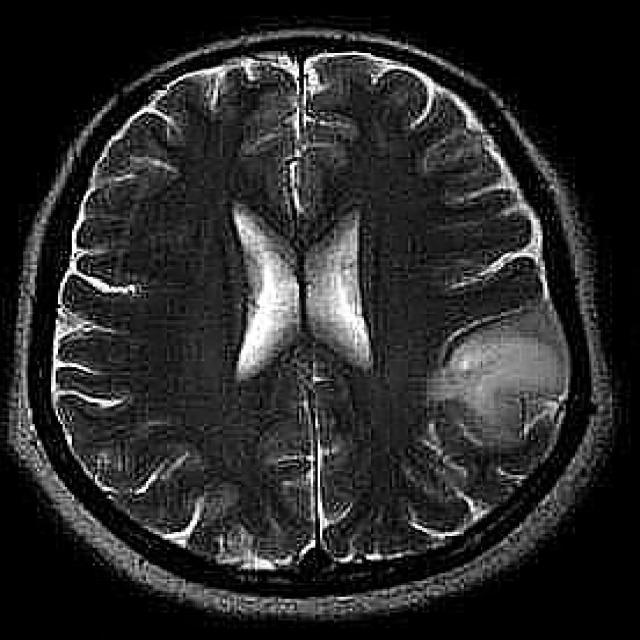notumor: (2, 22, 624, 618)
